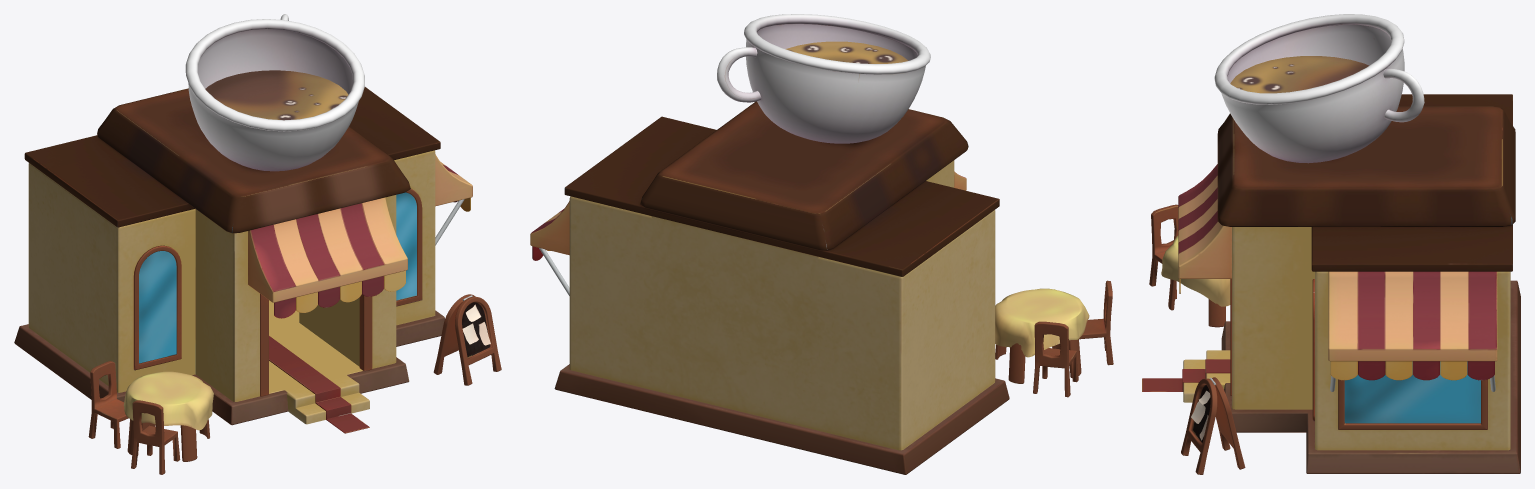
3 views of the same model, side by side, from view 1: azimuth 30°, elevation 25°; view 2: azimuth 150°, elevation 25°; view 3: azimuth 270°, elevation 25° (orthographic). The views are drawn at different scales.
Parts seen in each view (by area): view 1: building1; view 2: building1; view 3: building1.
Part boxes in pixels (x1,y1,x2,y2): building1: [14, 14, 501, 474]; building1: [530, 14, 1113, 474]; building1: [1142, 14, 1520, 474].
Size of the model in its own units: 0.2158 by 0.1626 by 0.1598.
1 material, 1 textured.
